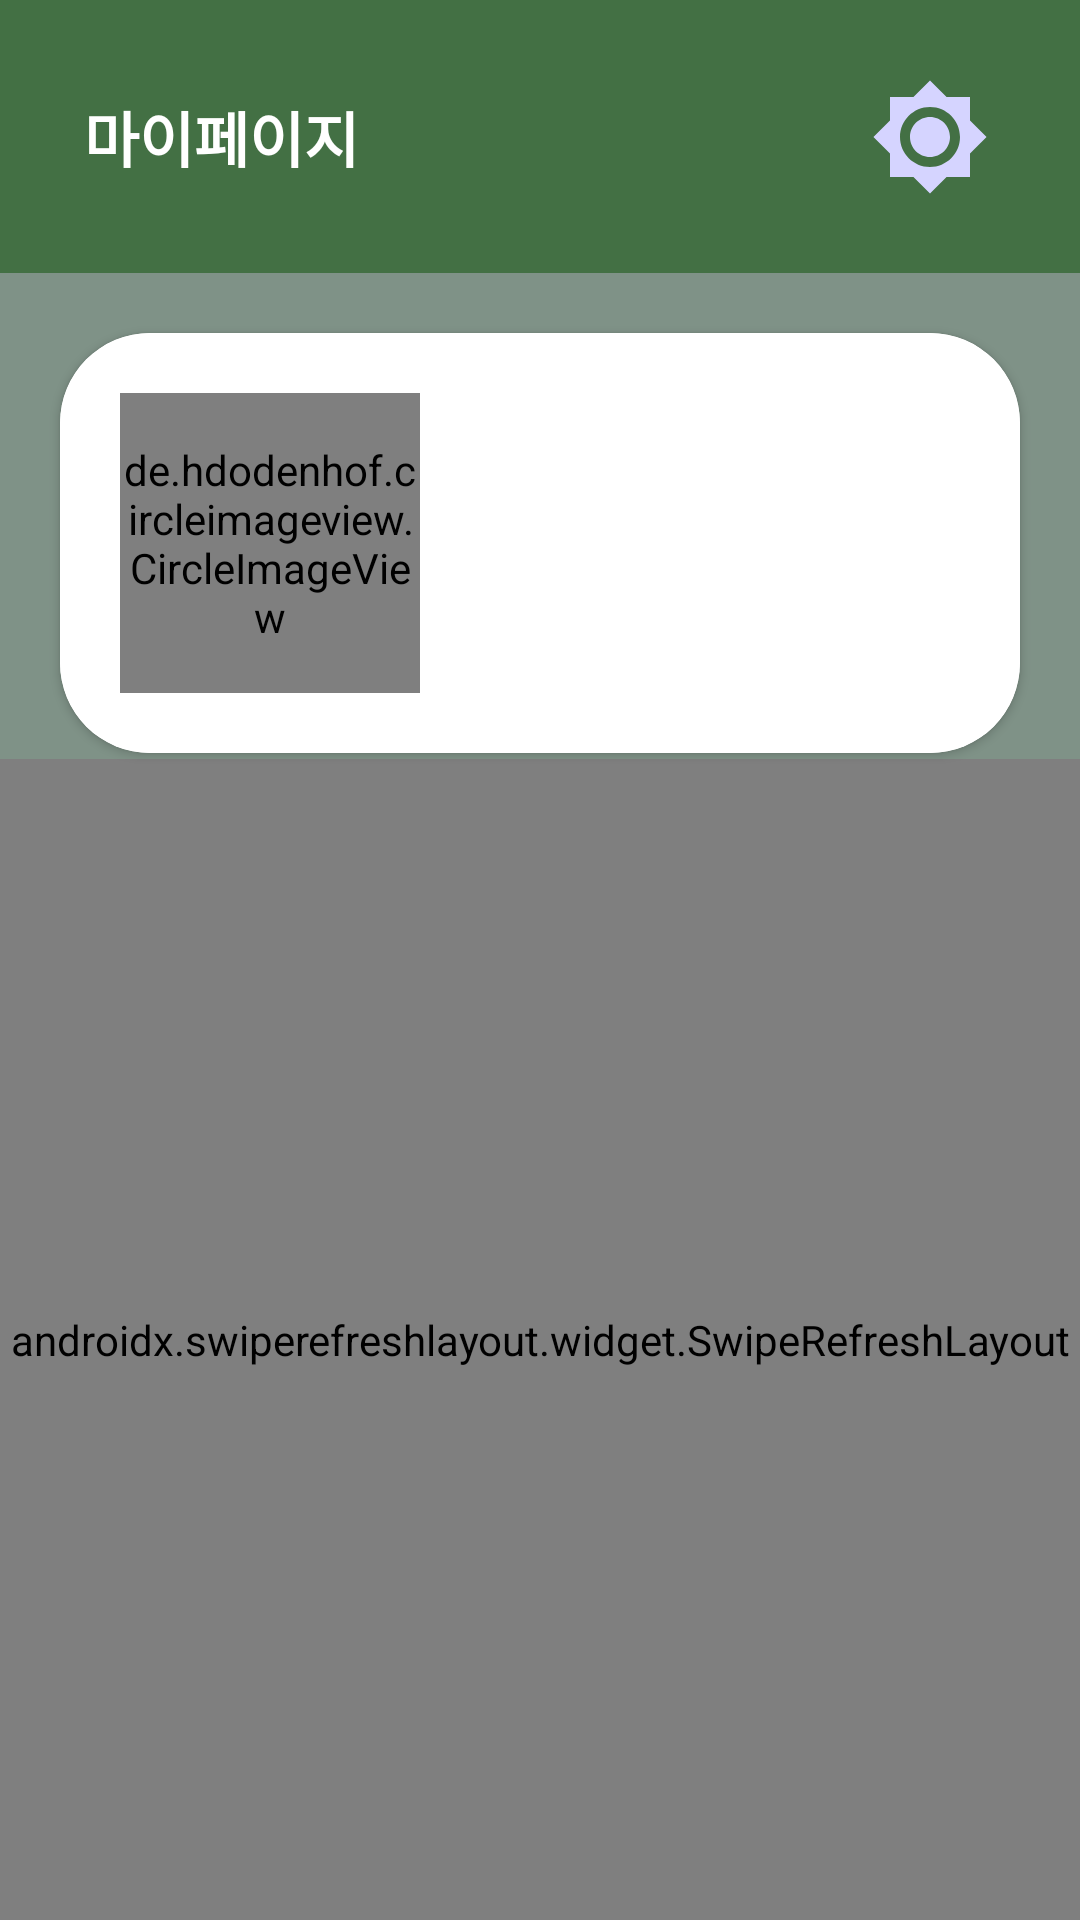

Where to tap for icons on this 1080px x 1920px app screen, as point (x, y):
brightness: point (930, 137)
